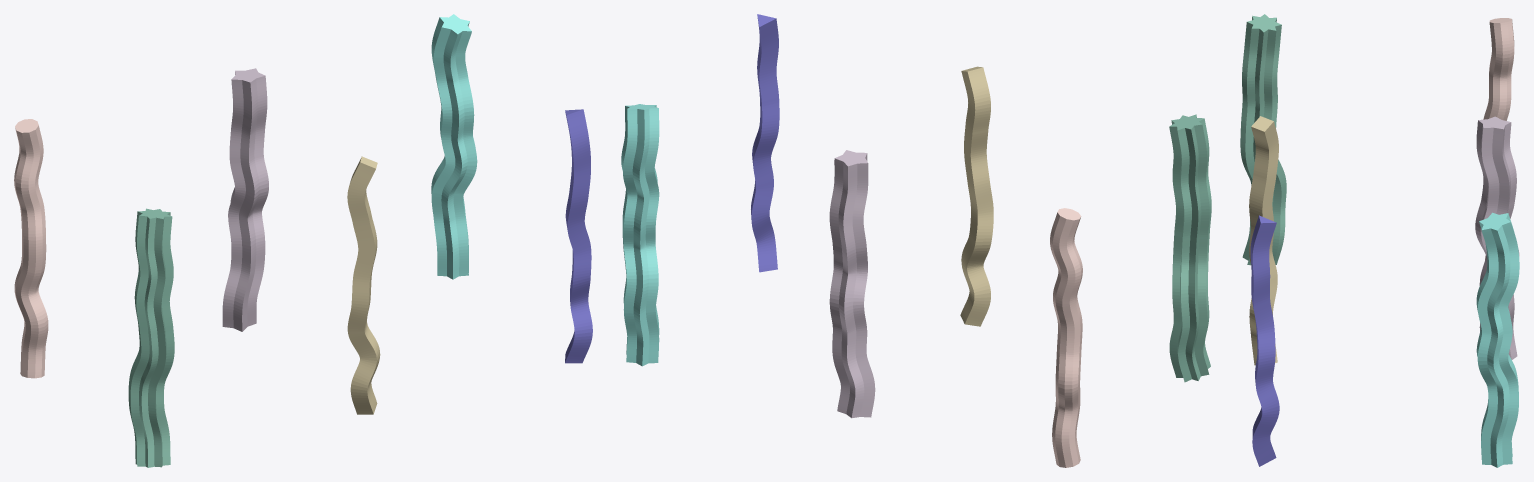
Rendered from std_nrmled_mats_1_OpenedSplineTest_2023-06-04-21-23-01.gltf.
The picture shows the model from 3 angles, left to right: view 1: azimuth 30°, elevation 25°; view 2: azimuth 150°, elevation 25°; view 3: azimuth 270°, elevation 25°; orthographic projection. The views are drawn at different scales.
Size of the model in its own units: 439 by 232 by 237.
